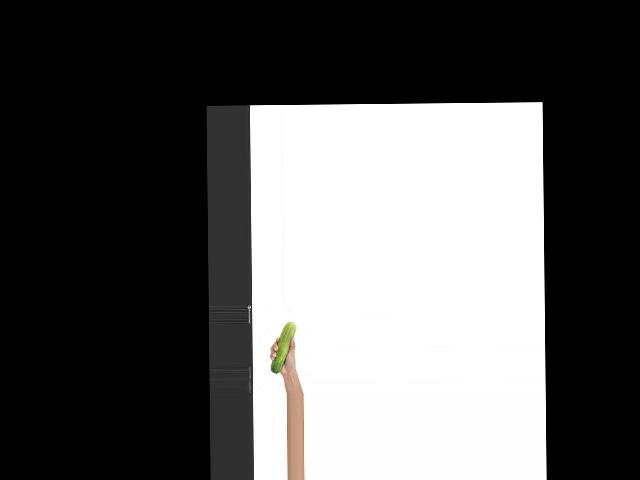cucumber: (270, 322, 296, 374)
